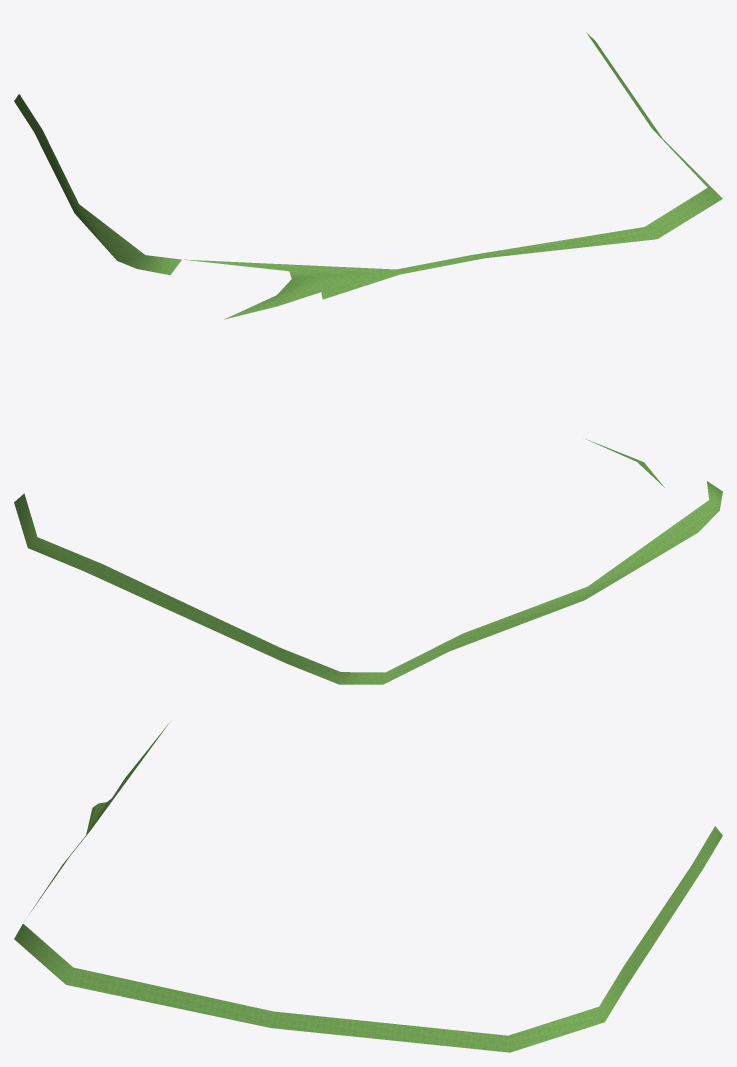
The model's file is kd_connection_world-inner_surface_10_32.glb.
3 renders of one model, top to bottom at view 1: azimuth 30°, elevation 25°; view 2: azimuth 150°, elevation 25°; view 3: azimuth 270°, elevation 25°, orthographic. The views are drawn at different scales.
Visible parts, largest first — view 1: kd_connection_world-inner_surface_10_32; view 2: kd_connection_world-inner_surface_10_32; view 3: kd_connection_world-inner_surface_10_32.
Boxes of the visible parts, left/top/right/bottom form: kd_connection_world-inner_surface_10_32: left=14, top=33, right=722, bottom=319; kd_connection_world-inner_surface_10_32: left=14, top=439, right=722, bottom=684; kd_connection_world-inner_surface_10_32: left=14, top=721, right=722, bottom=1052.
Bounding box in the file's own units: 329 × 27.4 × 326.
1 material, 1 textured.
